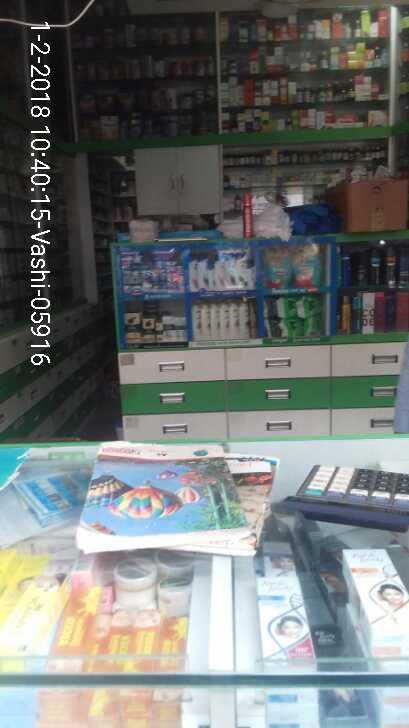beauty: (120, 311, 140, 343), (173, 310, 185, 344), (161, 314, 174, 345), (140, 319, 155, 344), (187, 256, 197, 293), (197, 257, 207, 293), (191, 304, 200, 342), (239, 302, 247, 340)
pharmacy: (119, 251, 184, 292), (285, 248, 320, 285), (259, 246, 287, 284), (272, 298, 299, 319), (298, 297, 319, 315)
